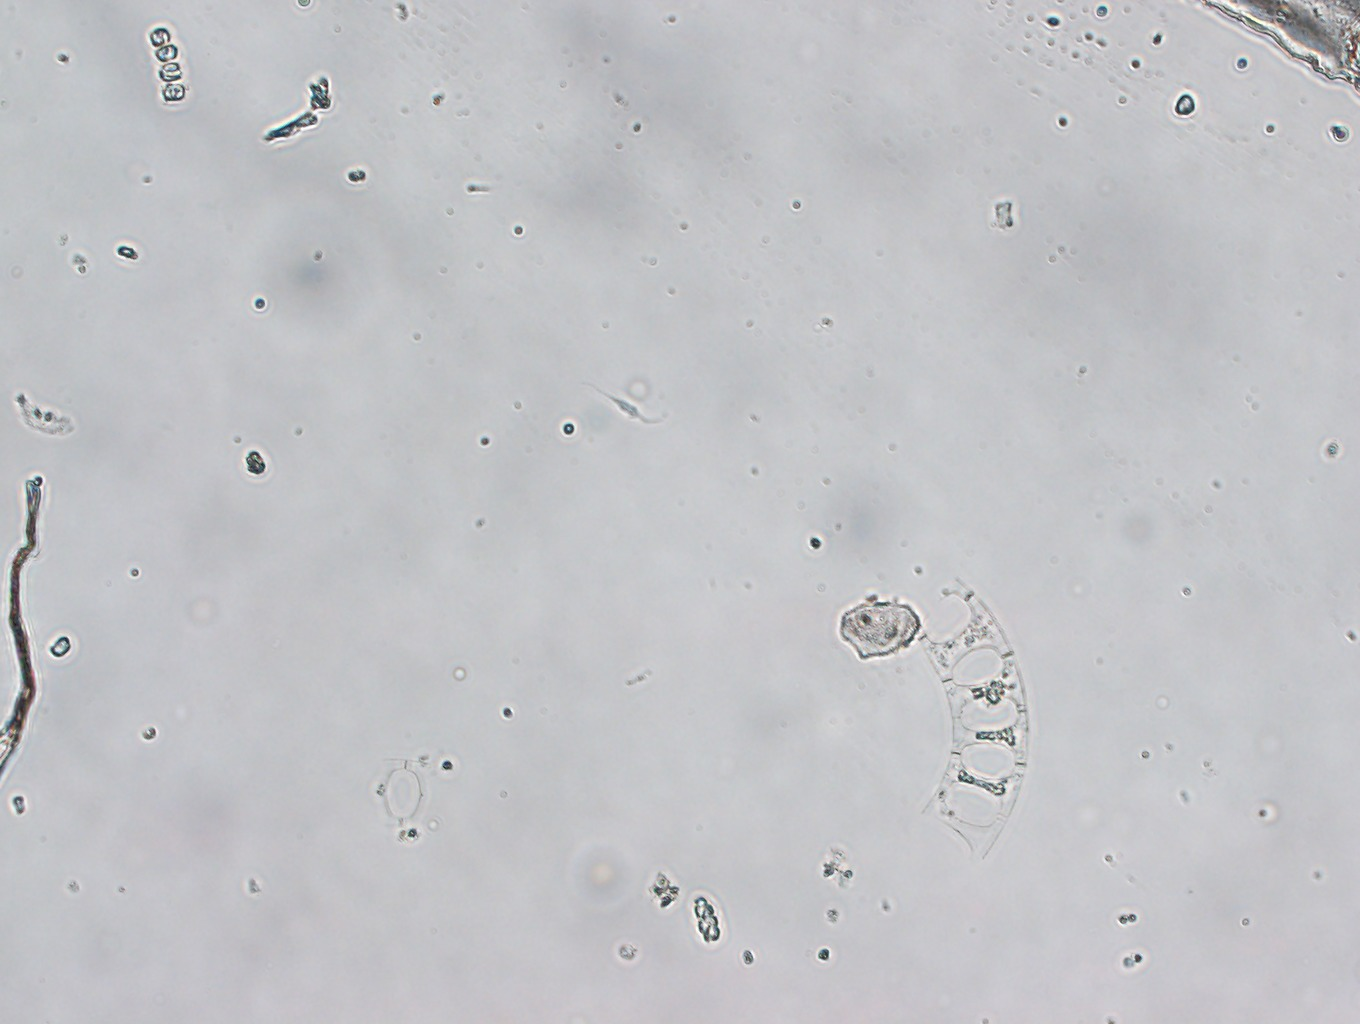eucampia: (899, 579, 1041, 861)
skeletonema: (134, 19, 192, 113)
